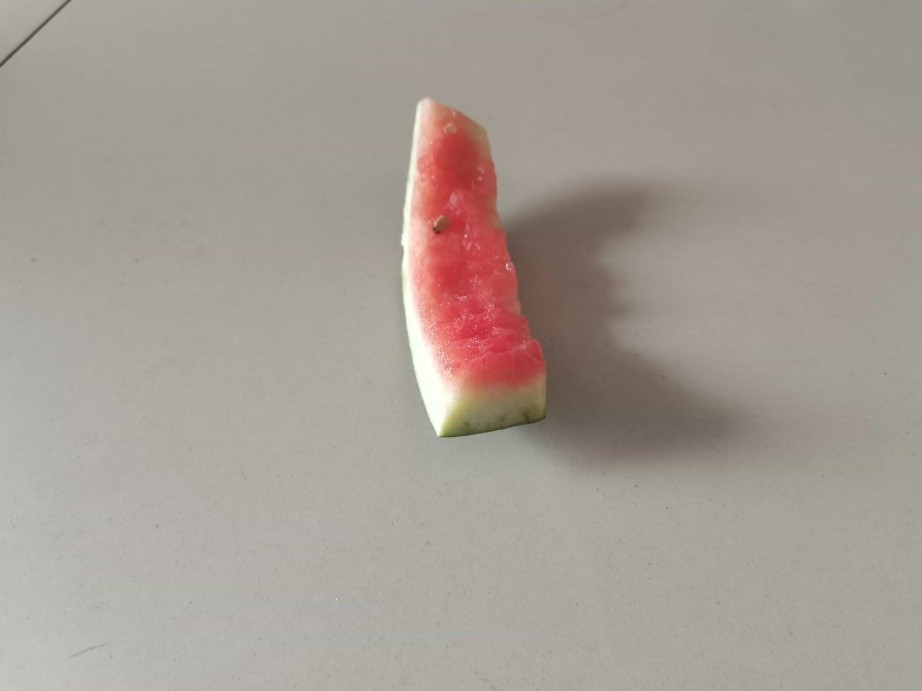pericarp: (390, 90, 559, 446)
